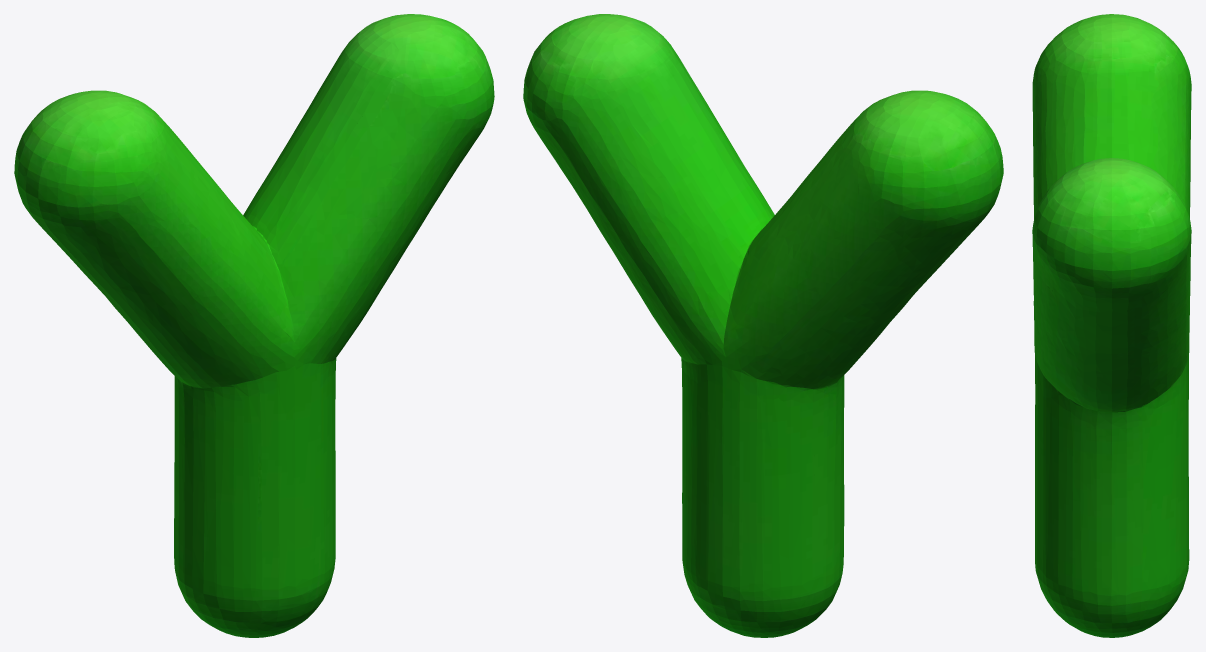
3 renders of one model, left to right at view 1: azimuth 30°, elevation 25°; view 2: azimuth 150°, elevation 25°; view 3: azimuth 270°, elevation 25°, orthographic. The views are drawn at different scales.
Visible parts, largest first — view 1: geometry_0; view 2: geometry_0; view 3: geometry_0.
Part boxes in pixels (x1,y1,x2,y2): geometry_0: (14, 14, 494, 637); geometry_0: (523, 14, 1003, 637); geometry_0: (1032, 14, 1191, 637).
Bounding box in the file's own units: 0.8434 × 0.9999 × 0.2702.
Materials: 1 (1 with a texture image).
